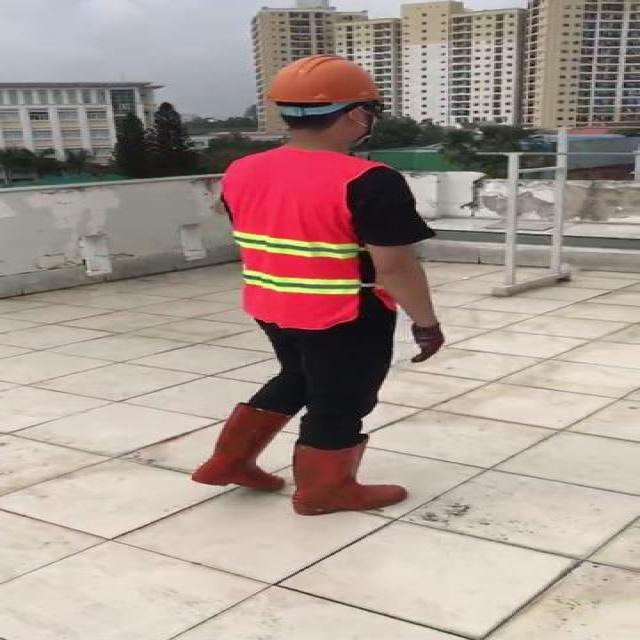boots: (292, 438, 407, 518), (196, 404, 288, 492)
hand_glove: (409, 325, 443, 365)
head_helmet: (261, 52, 383, 104)
person: (185, 50, 450, 515)
vest: (222, 149, 377, 330)
